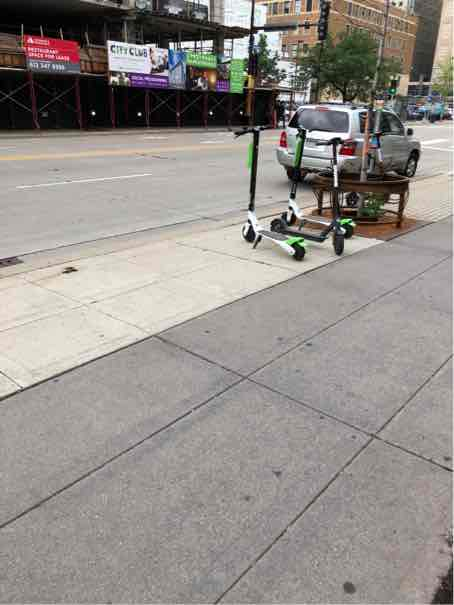scooter: (227, 100, 310, 266)
